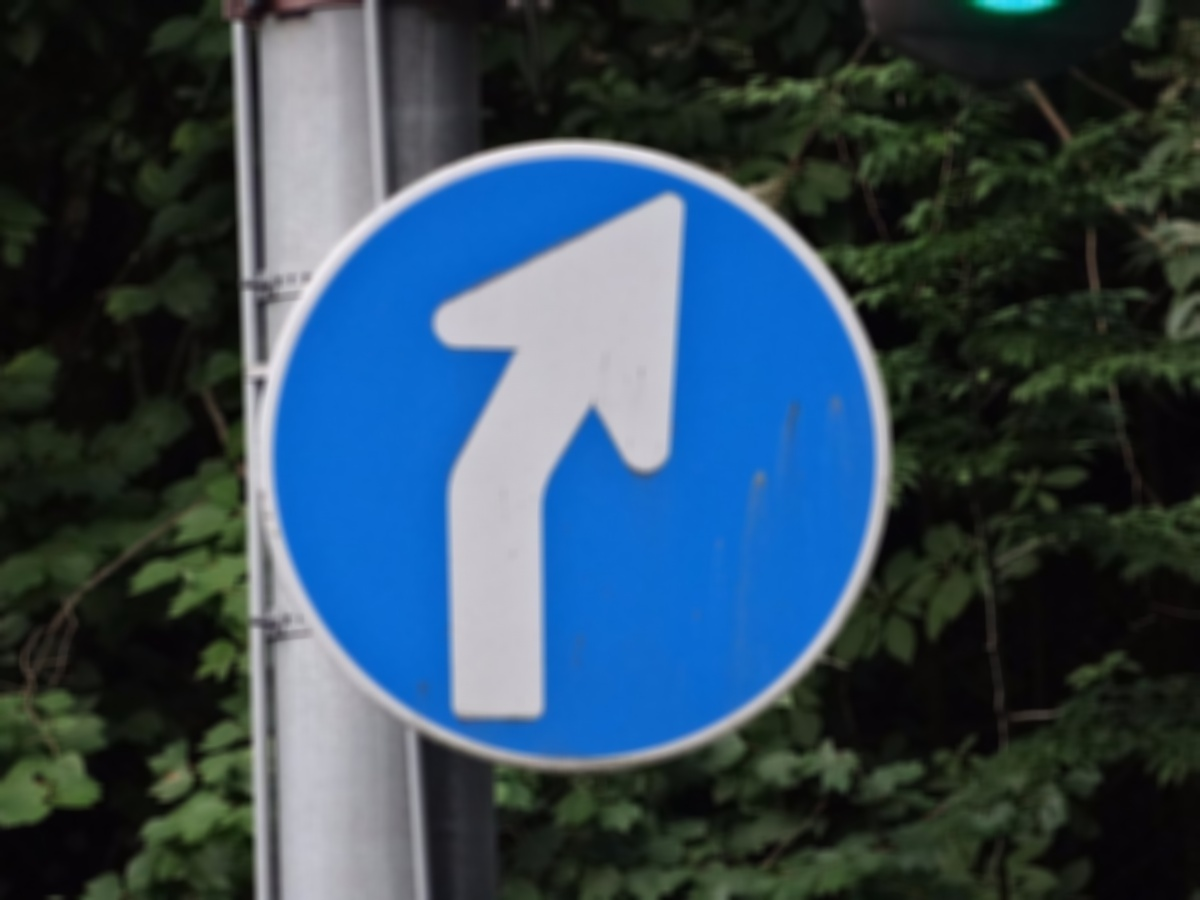Direction_sign: (247, 144, 962, 817)
